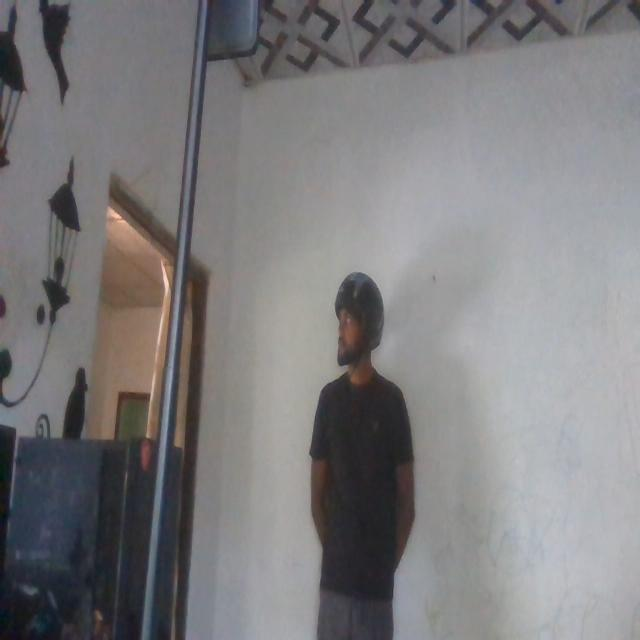Helmet_Wearer: (327, 273, 387, 383)
Person: (308, 280, 414, 640)
